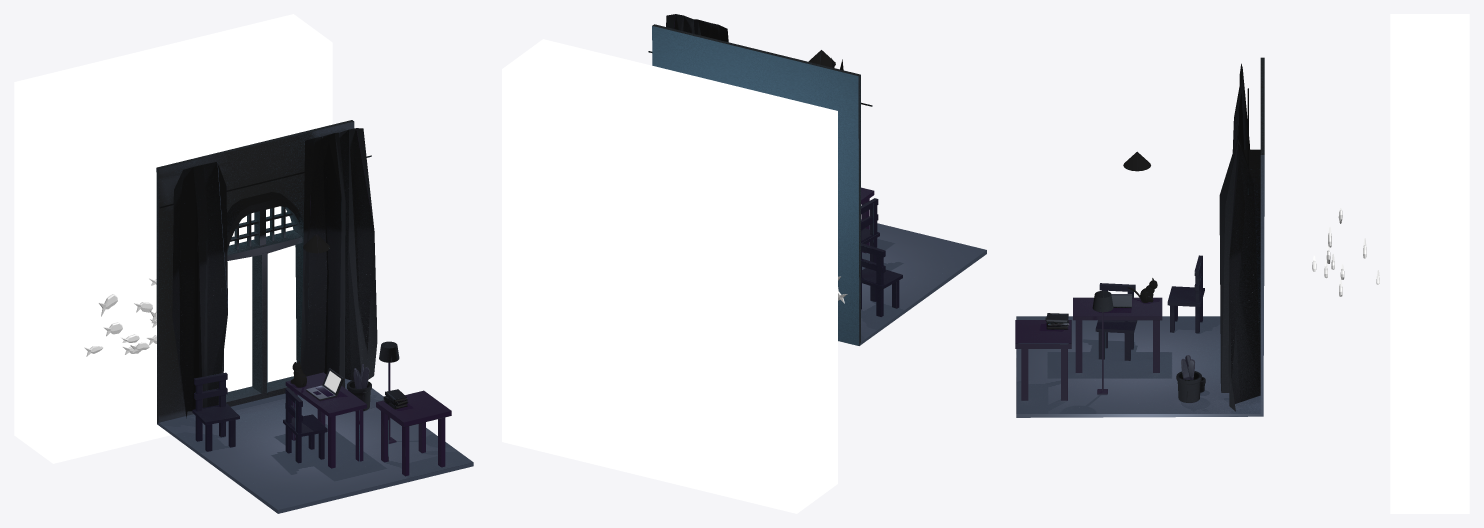
File: window2.glb
The picture shows the model from 3 angles, left to right: view 1: azimuth 30°, elevation 25°; view 2: azimuth 150°, elevation 25°; view 3: azimuth 270°, elevation 25°; orthographic projection. The views are drawn at different scales.
Visible parts, largest first — view 1: ocean, Cone; view 2: ocean, Cone; view 3: ocean, Cone.
Part boxes in pixels (x1,y1,x2,y2): ocean: (14,14,332,463); Cone: (156,120,473,513); ocean: (502,39,837,513); Cone: (648,14,986,345); ocean: (1390,14,1469,513); Cone: (1015,57,1264,417).
Size of the model in its own units: 2.31 by 2.79 by 3.18.
Materials: 3 (1 with a texture image).
